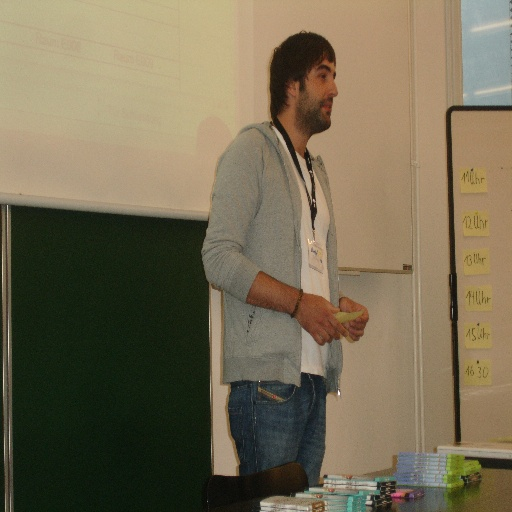hand: (300, 302, 357, 350), (338, 297, 370, 342)
